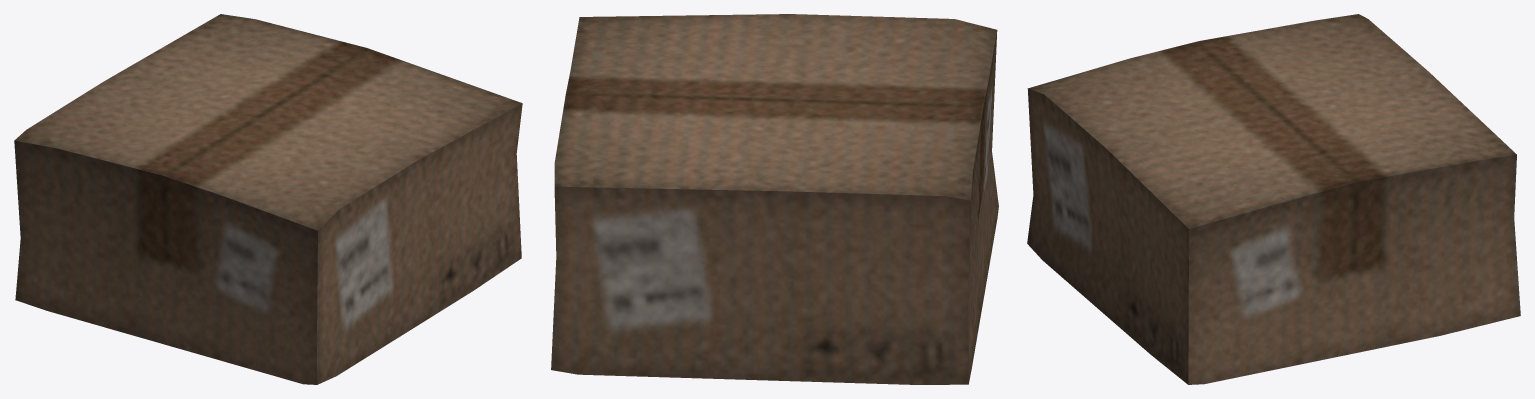
3 renders of one model, left to right at view 1: azimuth 30°, elevation 25°; view 2: azimuth 150°, elevation 25°; view 3: azimuth 270°, elevation 25°, orthographic. The views are drawn at different scales.
Parts seen in each view (by area): view 1: cardboard_box_1; view 2: cardboard_box_1; view 3: cardboard_box_1.
Boxes of the visible parts, box(x1,y1,x2,y2) form: cardboard_box_1: box(14, 14, 522, 384); cardboard_box_1: box(551, 14, 998, 384); cardboard_box_1: box(1027, 14, 1520, 384).
Bounding box in the file's own units: 0.9682 × 0.367 × 0.962.
1 material, 1 textured.
